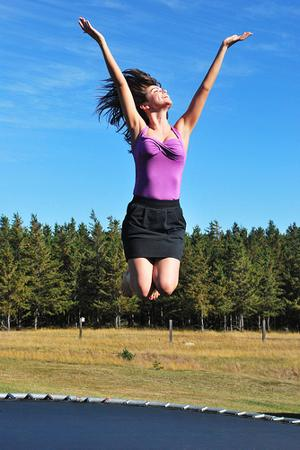person: (78, 13, 254, 293)
